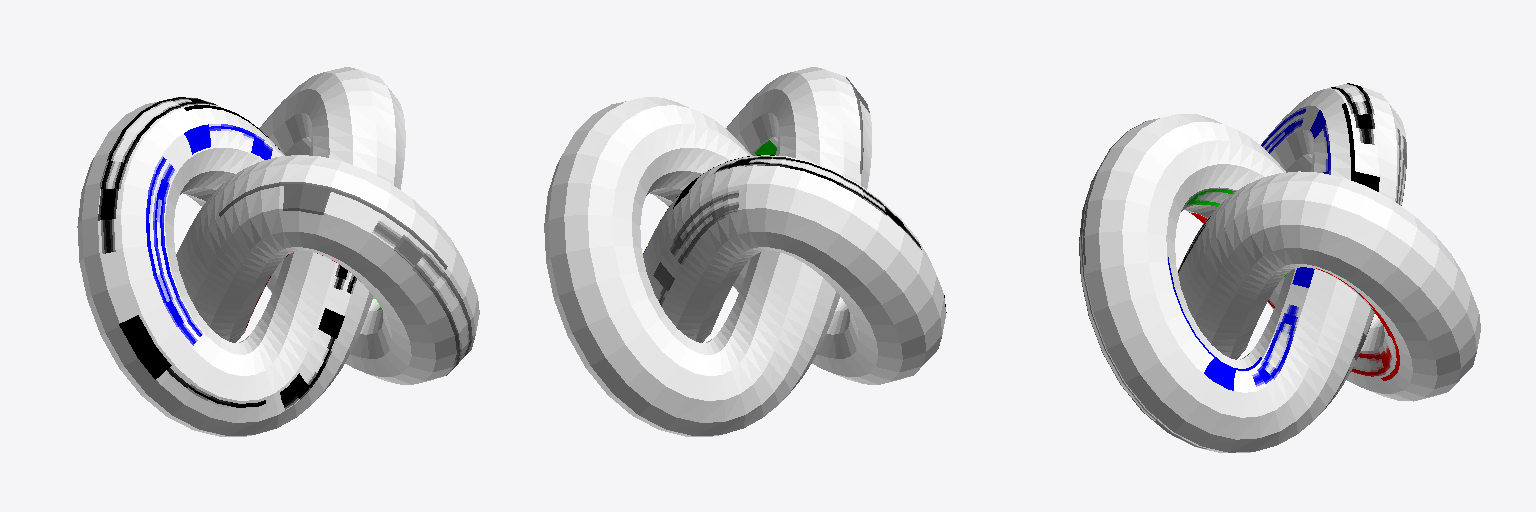
3 renders of one model, left to right at view 1: azimuth 30°, elevation 25°; view 2: azimuth 150°, elevation 25°; view 3: azimuth 270°, elevation 25°, orthographic.
Parts seen in each view (by area): view 1: Torus_Knot01; view 2: Torus_Knot01; view 3: Torus_Knot01.
Boxes of the visible parts, x1=… form: Torus_Knot01: x1=77, y1=67, x2=479, y2=436; Torus_Knot01: x1=544, y1=67, x2=946, y2=436; Torus_Knot01: x1=1079, y1=83, x2=1480, y2=452.
Bounding box in the file's own units: 65.32 × 51.61 × 69.26.
1 materials, 1 textured.